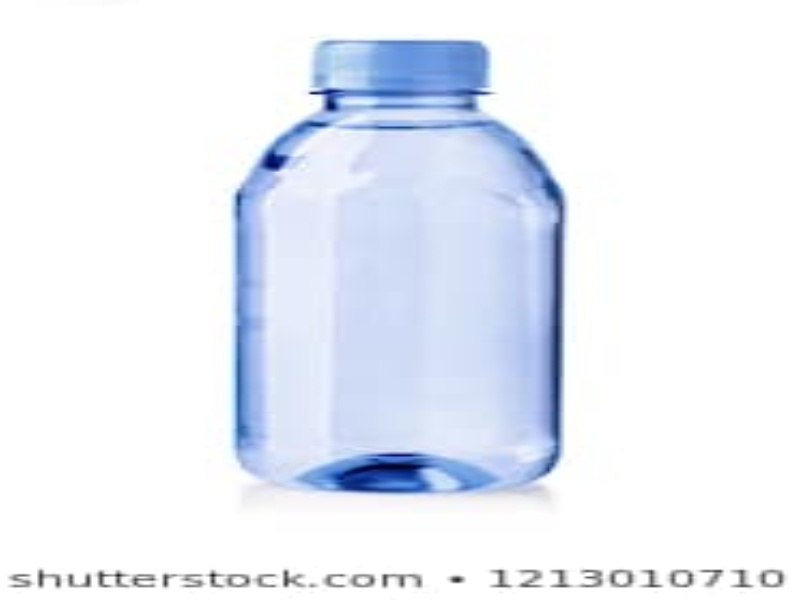bottle-cap: (304, 35, 496, 95)
plastic-bottle: (229, 37, 566, 500)
